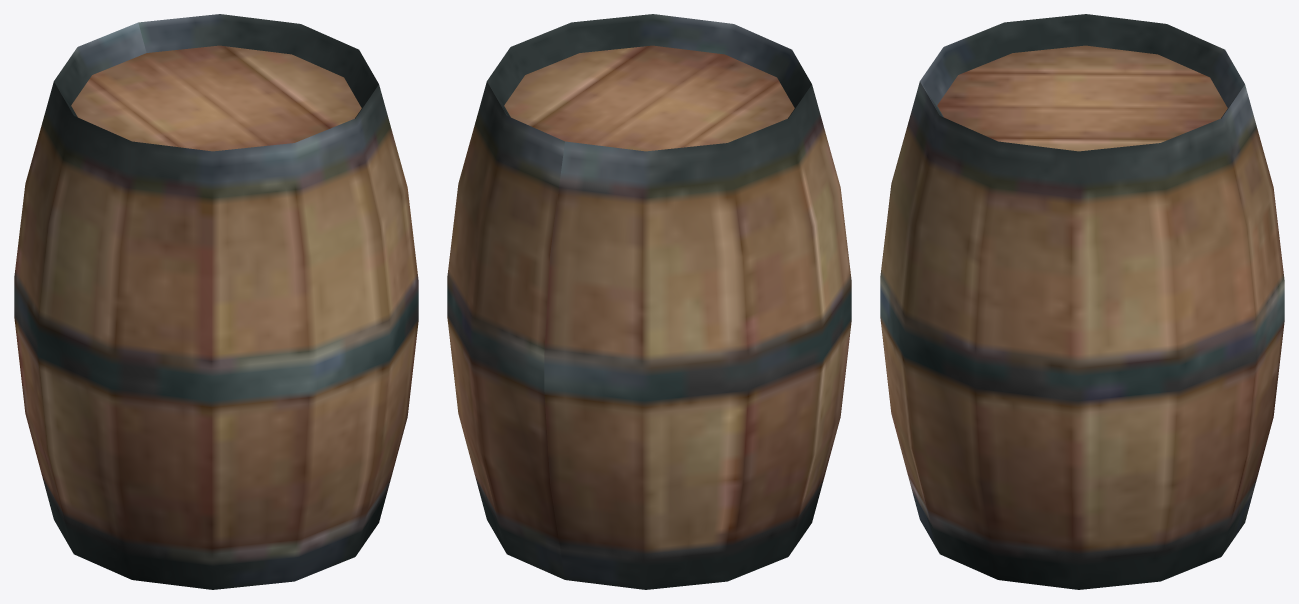
File: com_barrel_01.fbx
The picture shows the model from 3 angles, left to right: view 1: azimuth 30°, elevation 25°; view 2: azimuth 150°, elevation 25°; view 3: azimuth 270°, elevation 25°; orthographic projection.
Visible parts, largest first — view 1: com_barrel_01; view 2: com_barrel_01; view 3: com_barrel_01.
Boxes of the visible parts, x1,y1,x2,y2 form: com_barrel_01: (14,14,418,589); com_barrel_01: (447,14,851,589); com_barrel_01: (880,14,1284,589).
Size of the model in its own units: 1.06 by 1.26 by 1.06.
Materials: 1 (1 with a texture image).
